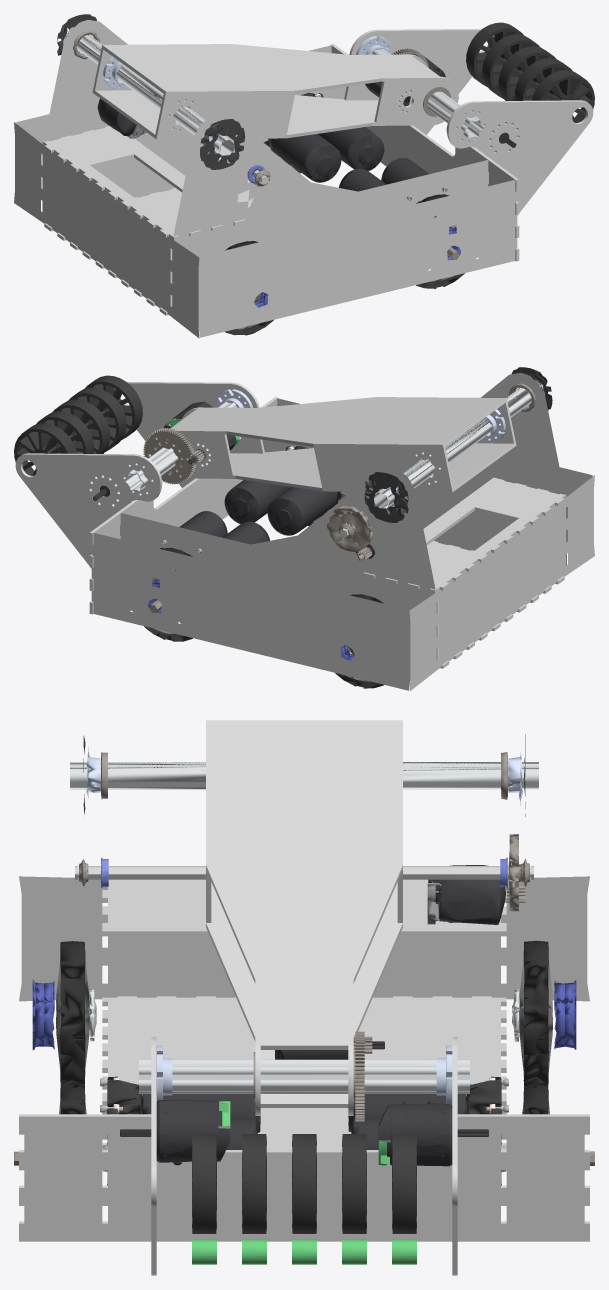
File: mentores-3478.glb
3 views of the same model, one above another, from view 1: azimuth 30°, elevation 25°; view 2: azimuth 150°, elevation 25°; view 3: azimuth 270°, elevation 25° (orthographic). The views are drawn at different scales.
Visible parts, largest first — view 1: Brazo (×16), Lateral Ext (×2), Lateral Int (×2), Trasera, Superior, Transmición CIM (×4), Frontal, SplineXL, 42T Sprockets (×2), Base, Kraken X60; view 2: Brazo (×17), Lateral Ext (×2), Lateral Int (×2), Trasera, Superior, Transmición CIM (×4), Frontal, SplineXL, 42T Sprockets (×2), 60T gear, Base; view 3: Brazo (×18), Frontal, Trasera, Base, Wheel (×8), Superior, SplineXL, Transmición CIM (×4), FlechaHEx, Kraken X60, 60T gear.
Part boxes in pixels (bbox=[...]): Brazo (×16): bbox=[92, 22, 594, 215]; Lateral Ext (×2): bbox=[16, 45, 516, 337]; Lateral Int (×2): bbox=[42, 20, 488, 306]; Trasera: bbox=[14, 122, 199, 338]; Superior: bbox=[42, 126, 245, 240]; Transmición CIM (×4): bbox=[270, 127, 429, 191]; Frontal: bbox=[331, 44, 519, 261]; SplineXL: bbox=[68, 32, 234, 155]; 42T Sprockets (×2): bbox=[57, 14, 245, 169]; Base: bbox=[44, 179, 253, 315]; Kraken X60: bbox=[97, 98, 136, 135]; Brazo (×17): bbox=[14, 375, 516, 568]; Lateral Ext (×2): bbox=[92, 398, 592, 690]; Lateral Int (×2): bbox=[120, 373, 566, 659]; Trasera: bbox=[409, 475, 594, 691]; Superior: bbox=[363, 477, 566, 593]; Transmición CIM (×4): bbox=[179, 480, 338, 544]; Frontal: bbox=[89, 397, 277, 614]; SplineXL: bbox=[374, 385, 540, 508]; 42T Sprockets (×2): bbox=[364, 367, 552, 522]; 60T gear: bbox=[327, 505, 372, 551]; Base: bbox=[427, 541, 564, 668]; Brazo (×18): bbox=[120, 720, 488, 1275]; Frontal: bbox=[19, 1114, 589, 1241]; Trasera: bbox=[19, 876, 589, 1001]; Base: bbox=[102, 996, 506, 1149]; Wheel (×8): bbox=[32, 940, 576, 1114]; Superior: bbox=[102, 879, 506, 936]; SplineXL: bbox=[70, 762, 538, 789]; Transmición CIM (×4): bbox=[106, 1076, 502, 1185]; FlechaHEx: bbox=[75, 866, 533, 879]; Kraken X60: bbox=[428, 865, 505, 924]; 60T gear: bbox=[508, 834, 520, 911].
Bounding box in the file's own units: 0.8186 × 0.3754 × 0.59.
